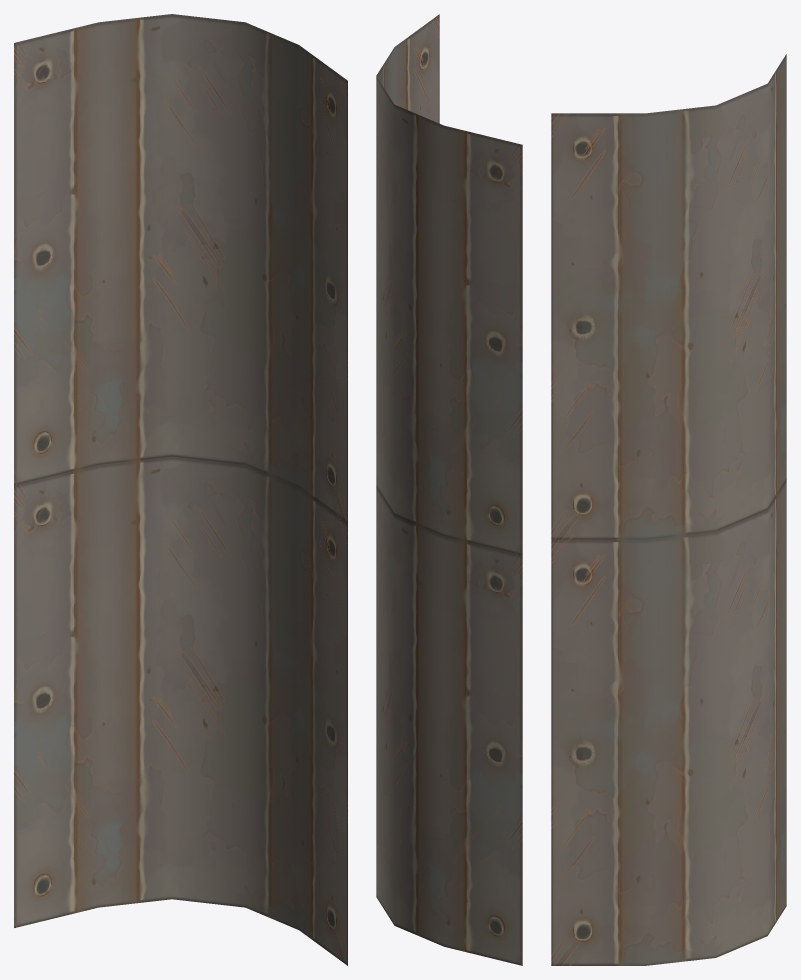
Rendered from sm_walldefaultCorner.fbx.
3 views of the same model, side by side, from view 1: azimuth 30°, elevation 25°; view 2: azimuth 150°, elevation 25°; view 3: azimuth 270°, elevation 25° (orthographic). The views are drawn at different scales.
Visible parts, largest first — view 1: sm_walldefaultCorner; view 2: sm_walldefaultCorner; view 3: sm_walldefaultCorner.
Part boxes in pixels (x1,y1,x2,y2): sm_walldefaultCorner: (14, 14, 347, 965); sm_walldefaultCorner: (376, 14, 522, 965); sm_walldefaultCorner: (551, 54, 786, 965).
Bounding box in the file's own units: 1 × 4 × 1.
